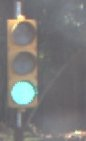Green: (4, 13, 42, 119)
